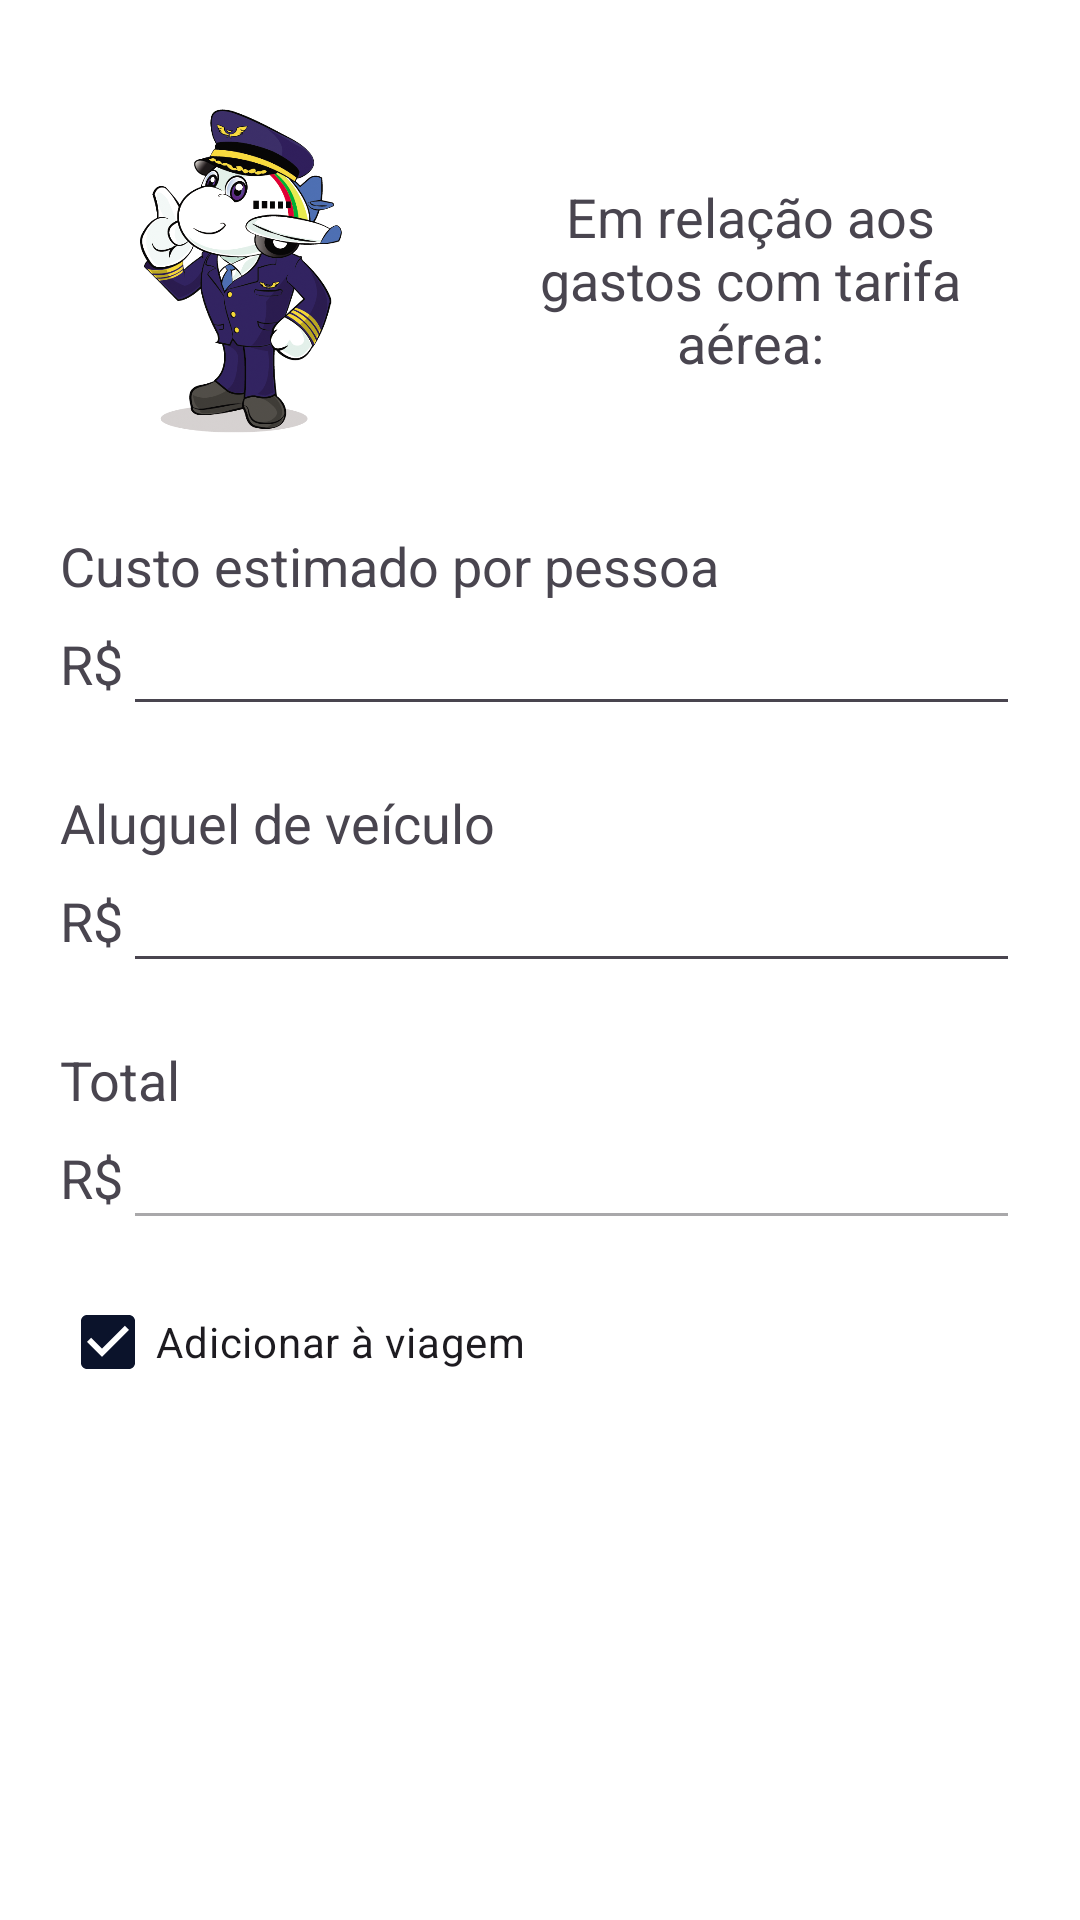

Icons on this 1080 x 1920 Android screen, each with the point to tap as (x=x, y=y):
aviao: (x=241, y=270)
